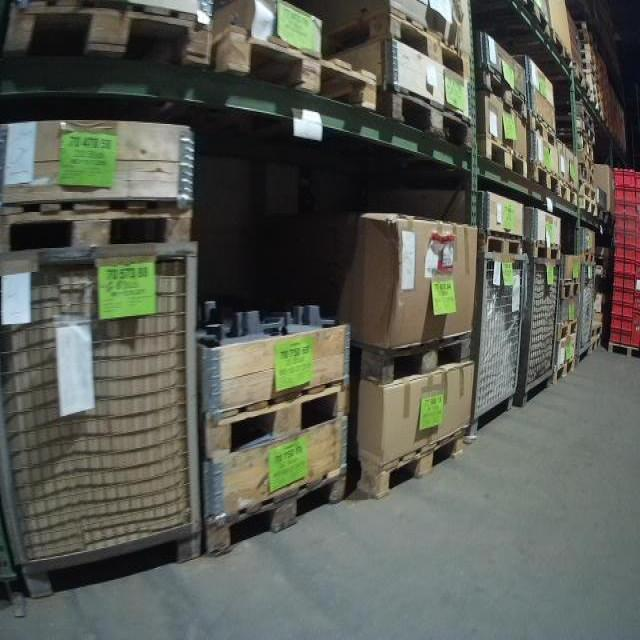pallet: (213, 18, 379, 123), (2, 3, 217, 79), (205, 457, 352, 559), (2, 195, 204, 265), (202, 377, 357, 462), (322, 9, 472, 83), (355, 422, 472, 501), (352, 329, 473, 386), (380, 83, 473, 147), (468, 1, 553, 42), (473, 63, 532, 121), (473, 129, 532, 179), (469, 223, 526, 263), (543, 28, 578, 76), (531, 161, 563, 199), (528, 113, 558, 153), (528, 234, 557, 265), (552, 353, 576, 382), (607, 340, 640, 360), (555, 274, 579, 297), (560, 179, 576, 213), (557, 317, 578, 341), (586, 317, 607, 339), (588, 331, 603, 355), (579, 249, 600, 263)
small_load_carrier: (614, 169, 636, 189), (612, 261, 635, 278), (612, 245, 636, 261), (611, 315, 631, 332), (612, 290, 634, 305), (609, 332, 631, 347), (617, 189, 636, 205), (615, 231, 636, 245), (615, 218, 636, 231), (612, 278, 636, 289), (616, 205, 636, 218), (633, 315, 639, 350), (611, 305, 634, 314), (632, 293, 639, 309)
stillage: (2, 229, 211, 606), (462, 247, 530, 443), (518, 253, 566, 413), (574, 258, 601, 369)
